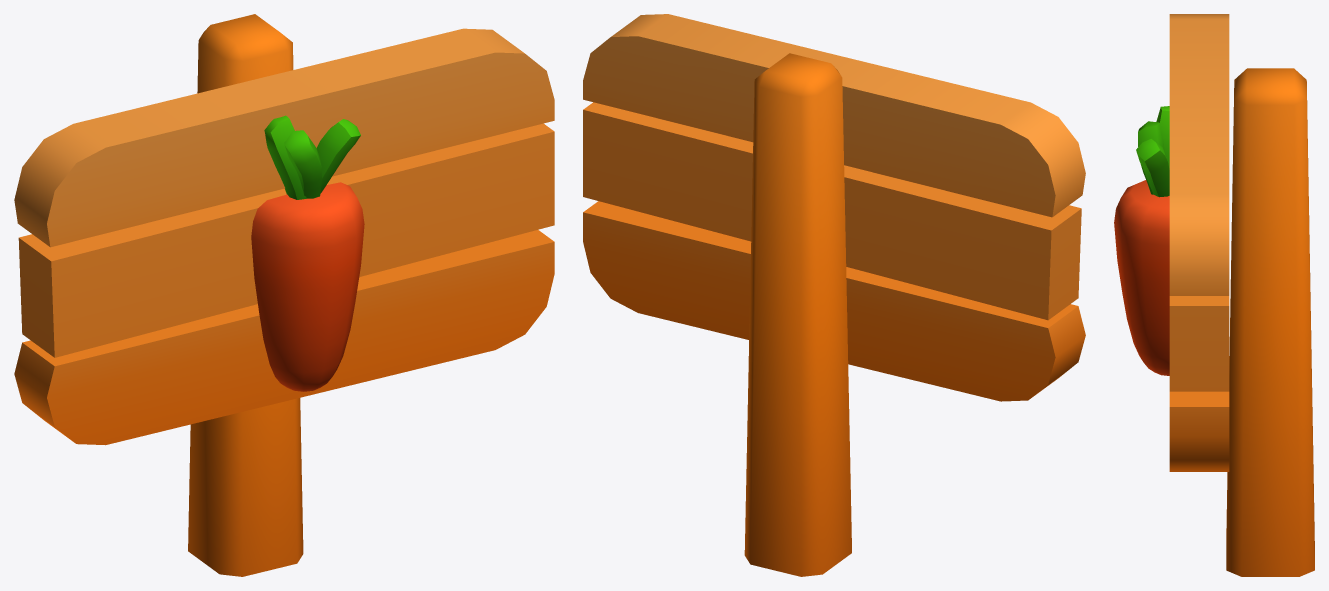
File: Farm_Crop_Sign_Carrot_01.fbx
3 views of the same model, side by side, from view 1: azimuth 30°, elevation 25°; view 2: azimuth 150°, elevation 25°; view 3: azimuth 270°, elevation 25° (orthographic). The views are drawn at different scales.
Visible parts, largest first — view 1: Farm_Crop_Sign_Carrot_01; view 2: Farm_Crop_Sign_Carrot_01; view 3: Farm_Crop_Sign_Carrot_01.
Part boxes in pixels (bbox=[...]): Farm_Crop_Sign_Carrot_01: bbox=[14, 14, 554, 576]; Farm_Crop_Sign_Carrot_01: bbox=[583, 14, 1085, 576]; Farm_Crop_Sign_Carrot_01: bbox=[1114, 14, 1314, 576].
Bounding box in the file's own units: 90.11 × 88.8 × 33.69.
